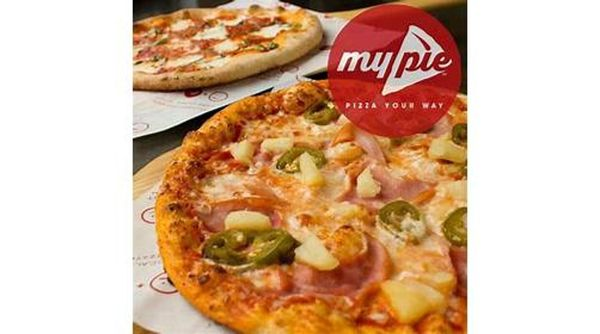sandwich: (153, 7, 467, 329), (134, 1, 323, 91)
